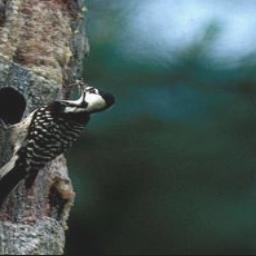Woodpecker: (0, 77, 118, 210)
